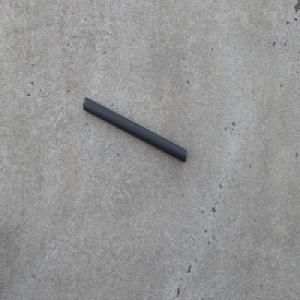LuggagePart: (82, 96, 188, 164)
